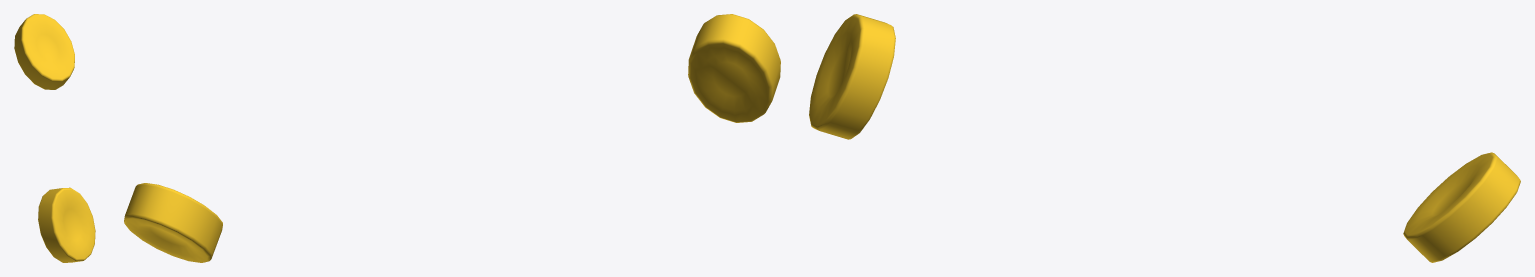
The model's file is m_coughDrop_je_4.fbx.
The picture shows the model from 3 angles, left to right: view 1: azimuth 30°, elevation 25°; view 2: azimuth 150°, elevation 25°; view 3: azimuth 270°, elevation 25°; orthographic projection. The views are drawn at different scales.
Visible parts, largest first — view 1: polySurface300; view 2: polySurface300; view 3: polySurface300.
Part boxes in pixels (x1,y1,x2,y2): polySurface300: (14,14,95,262); polySurface300: (124,14,780,262); polySurface300: (809,14,1520,262).
Bounding box in the file's own units: 1260 × 407 × 2231.
